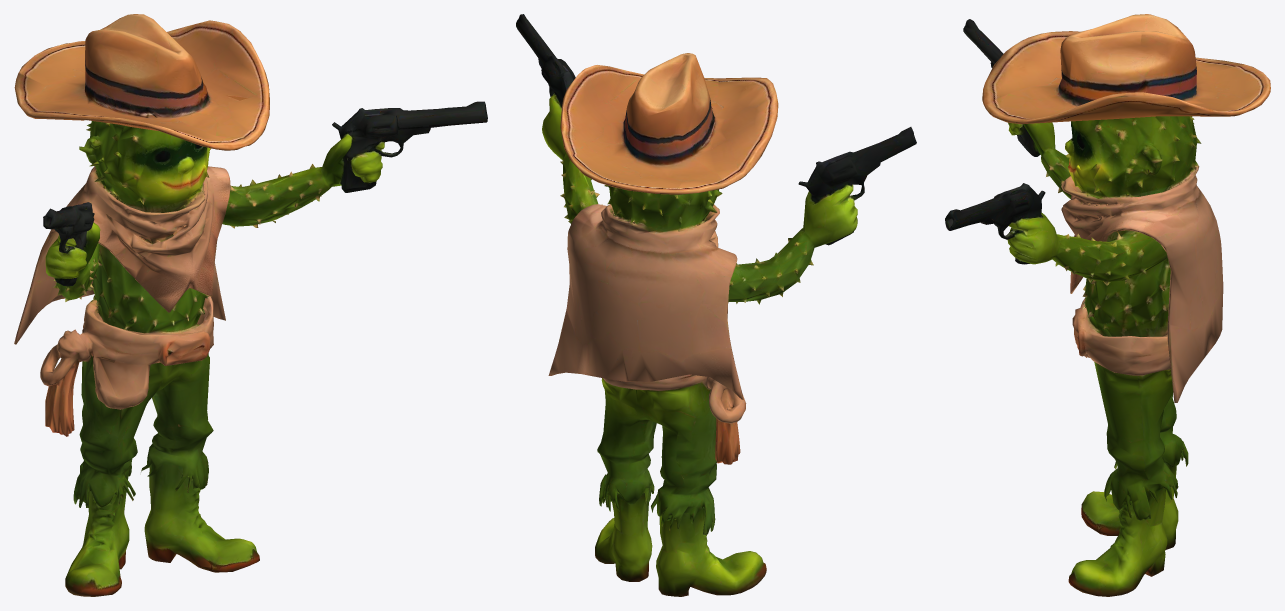
File: cactus-gunslinger-84355.glb
The picture shows the model from 3 angles, left to right: view 1: azimuth 30°, elevation 25°; view 2: azimuth 150°, elevation 25°; view 3: azimuth 270°, elevation 25°; orthographic projection. The views are drawn at different scales.
Size of the model in its own units: 1.6 by 1.91 by 1.06.
Materials: 1 (1 with a texture image).
